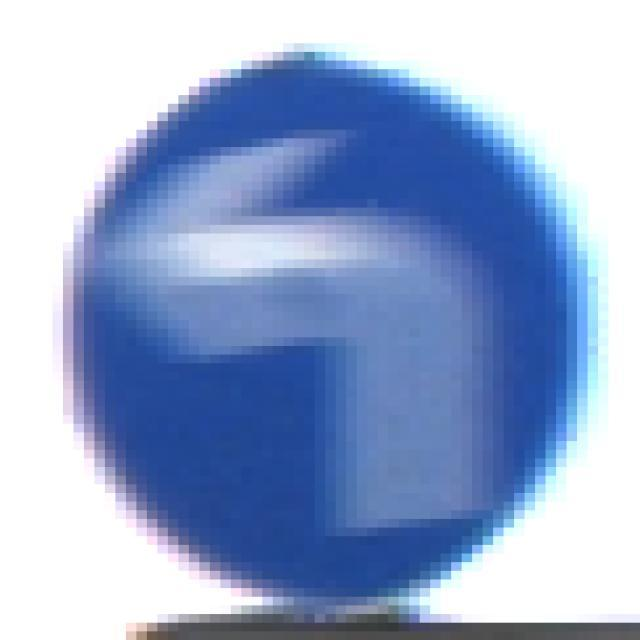compulsary turn left ahead: (61, 44, 598, 603)
